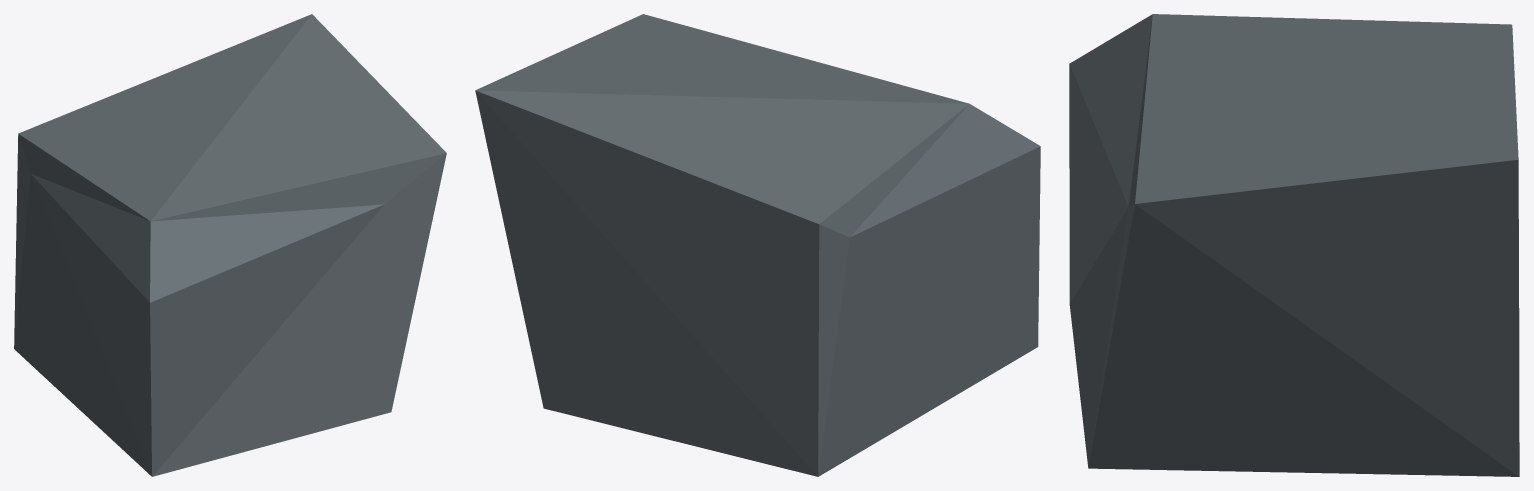
The model's file is Rock_Layered_1_LOD1.fbx.
3 views of the same model, side by side, from view 1: azimuth 30°, elevation 25°; view 2: azimuth 150°, elevation 25°; view 3: azimuth 270°, elevation 25° (orthographic). The views are drawn at different scales.
Visible parts, largest first — view 1: Group19553; view 2: Group19553; view 3: Group19553.
Part boxes in pixels (bbox=[...]): Group19553: bbox=[14, 14, 446, 476]; Group19553: bbox=[475, 14, 1040, 476]; Group19553: bbox=[1069, 14, 1519, 476].
Bounding box in the file's own units: 97.14 × 75.08 × 84.86.
